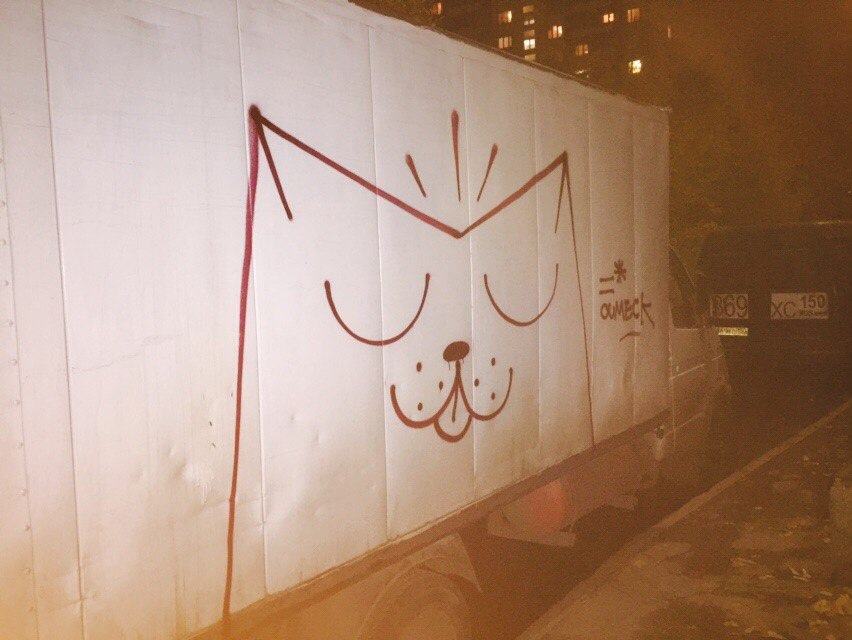graffity: (207, 72, 669, 633)
